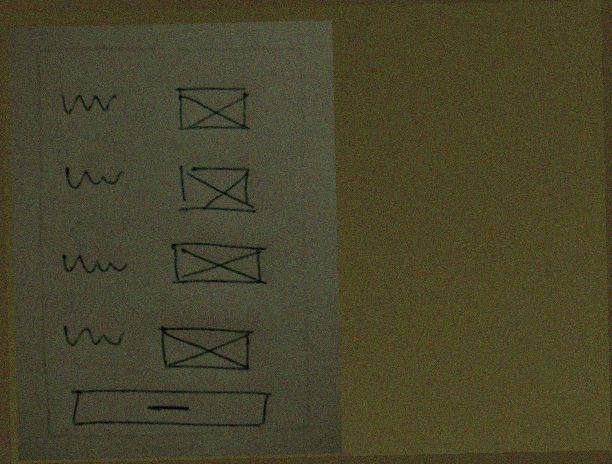button: (65, 379, 274, 440)
image: (154, 317, 261, 381), (164, 236, 271, 295), (171, 158, 260, 224), (170, 79, 258, 137)
text: (60, 317, 131, 358), (55, 247, 137, 282), (56, 159, 132, 196), (57, 86, 122, 119)
